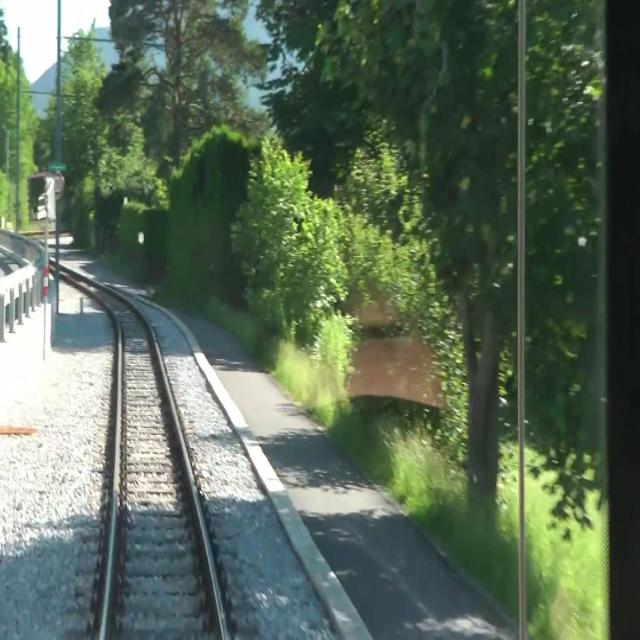rail-track: (60, 266, 223, 639), (48, 261, 55, 267)
